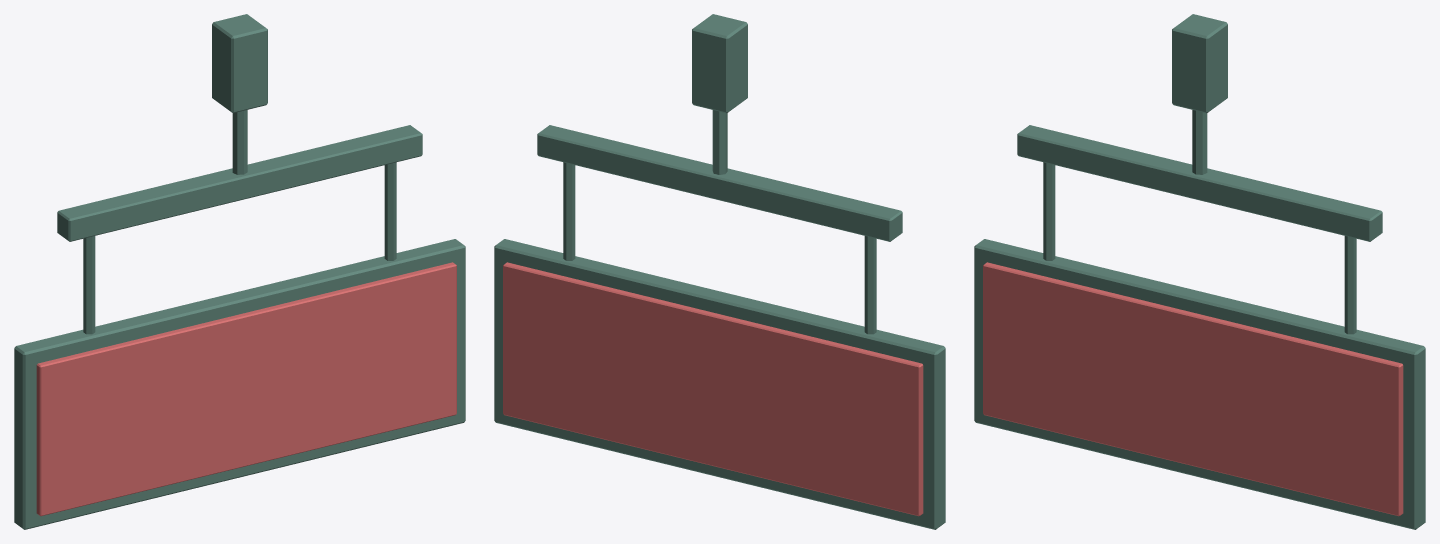
File: indoor-market-hall-and-traders-hanging-trader-sign-b77a654b.glb
3 views of the same model, side by side, from view 1: azimuth 30°, elevation 25°; view 2: azimuth 150°, elevation 25°; view 3: azimuth 330°, elevation 25° (orthographic).
Parts seen in each view (by area): view 1: hanging-trader-sign; view 2: hanging-trader-sign; view 3: hanging-trader-sign.
Part boxes in pixels (x1,y1,x2,y2): hanging-trader-sign: [14, 14, 465, 529]; hanging-trader-sign: [494, 14, 945, 529]; hanging-trader-sign: [974, 14, 1425, 529].
Size of the model in its own units: 1.2 by 1.16 by 0.1001.
